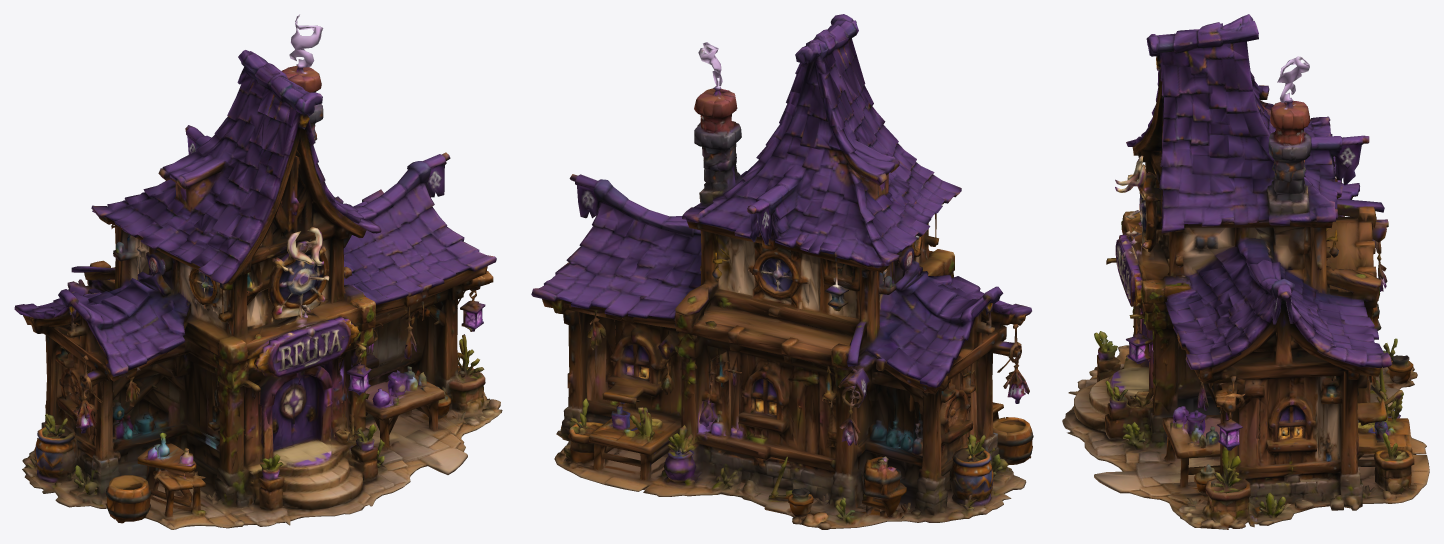
The model's file is tienda_de_brujas.glb.
The picture shows the model from 3 angles, left to right: view 1: azimuth 30°, elevation 25°; view 2: azimuth 150°, elevation 25°; view 3: azimuth 270°, elevation 25°; orthographic projection.
Visible parts, largest first — view 1: tienda_de_brujas; view 2: tienda_de_brujas; view 3: tienda_de_brujas.
Part boxes in pixels (x1,y1,x2,y2): tienda_de_brujas: [14, 14, 502, 529]; tienda_de_brujas: [531, 14, 1033, 529]; tienda_de_brujas: [1062, 14, 1429, 529].
Size of what is drawn, in the model's own units: 5.69 by 5.01 by 4.15.
1 material, 1 textured.
